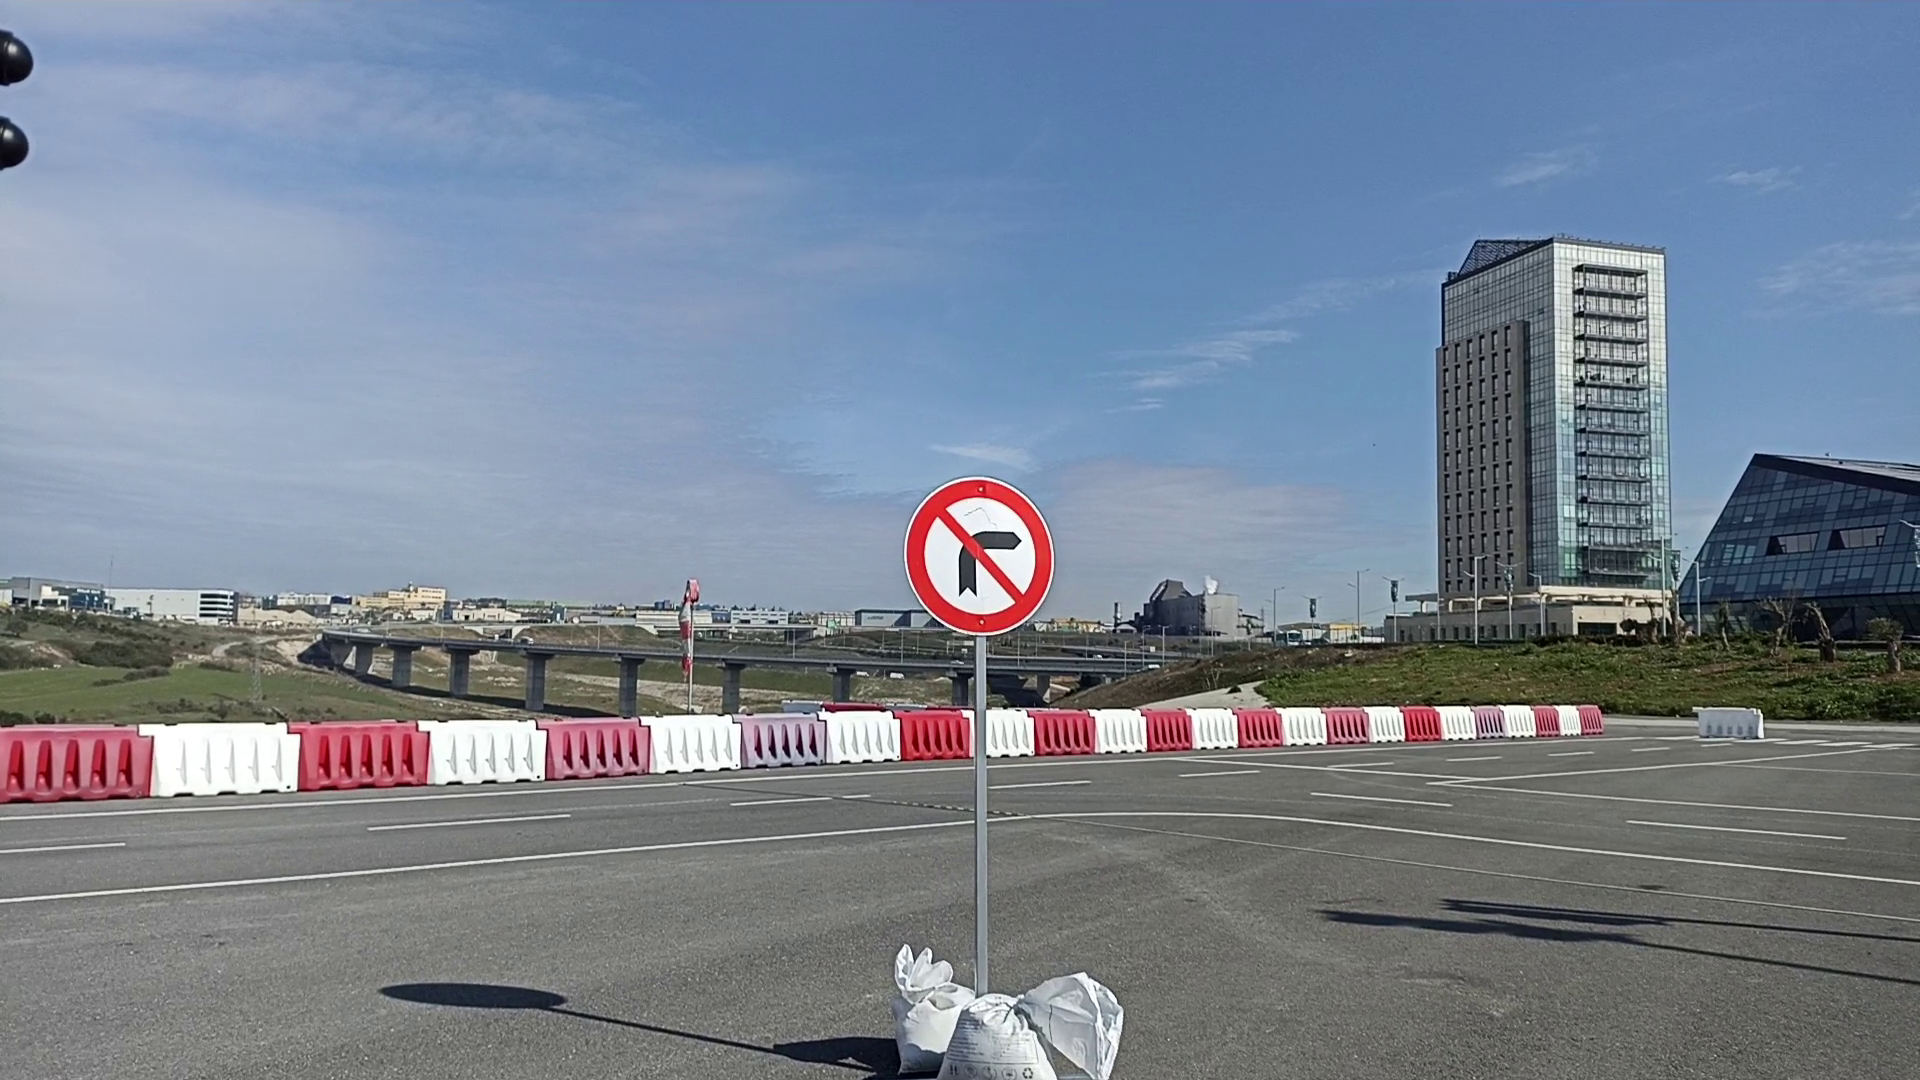noleftturn: (899, 473, 1056, 640)
